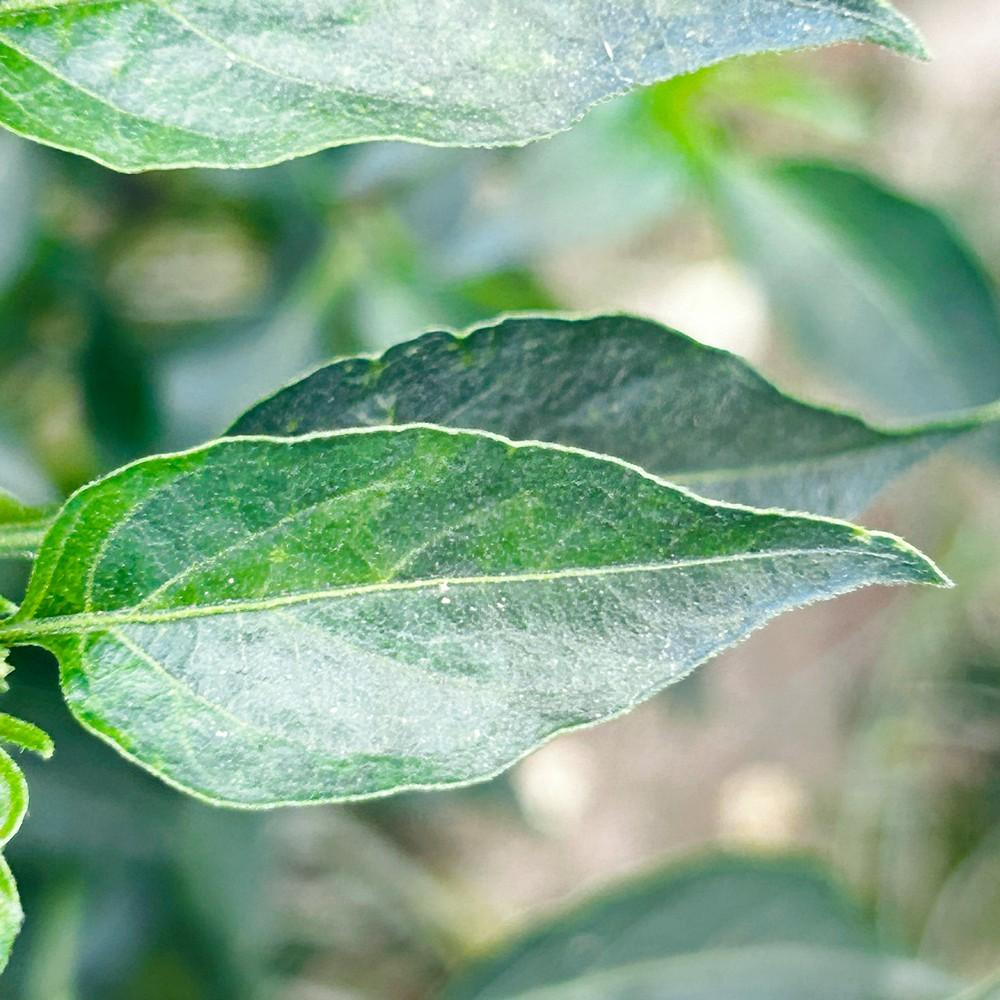Daun Cabai Sehat: (0, 419, 963, 814), (0, 0, 932, 175)
